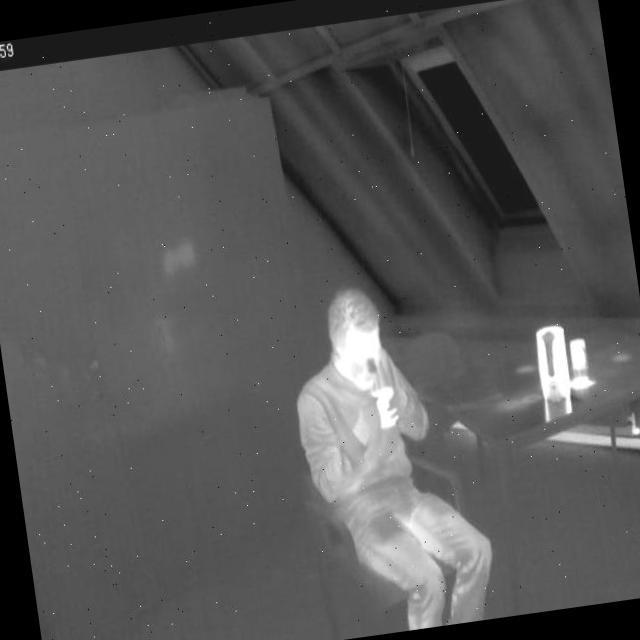person: (280, 274, 512, 640)
